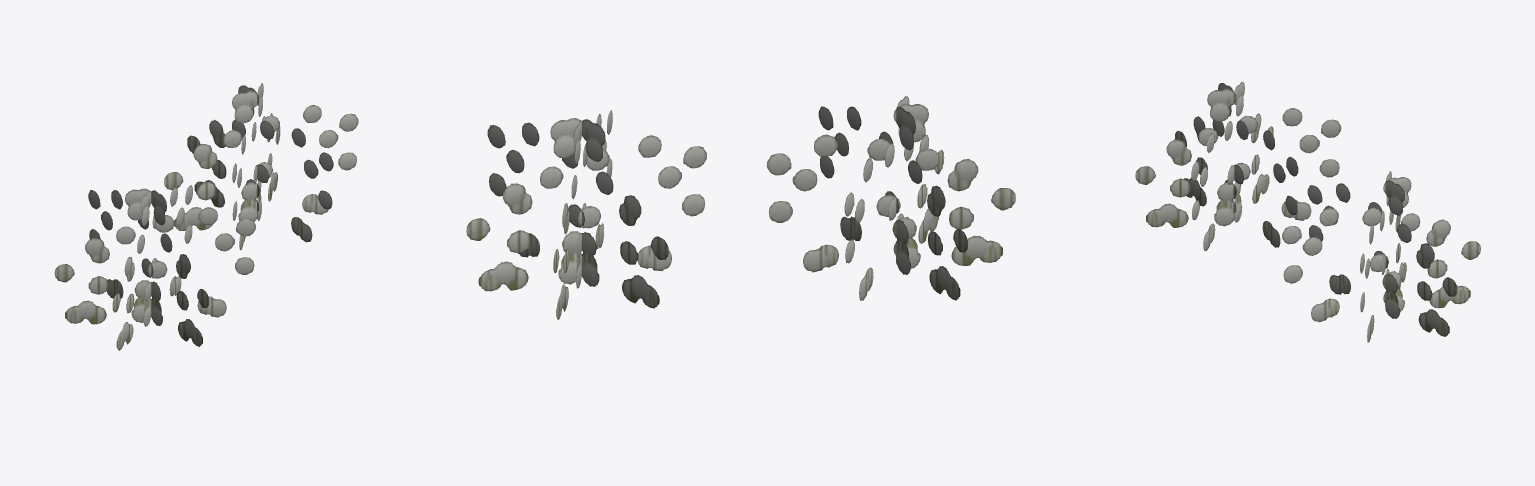
Rendered from tpl_bog_cotton.glb.
3 views of the same model, side by side, from view 1: azimuth 30°, elevation 25°; view 2: azimuth 150°, elevation 25°; view 3: azimuth 270°, elevation 25° (orthographic). The views are drawn at different scales.
Visible parts, largest first — view 1: tpl_bog_cotton; view 2: tpl_bog_cotton; view 3: tpl_bog_cotton.
Boxes of the visible parts, left/top/right/bottom form: tpl_bog_cotton: left=54, top=83, right=358, bottom=350; tpl_bog_cotton: left=466, top=96, right=1015, bottom=319; tpl_bog_cotton: left=1135, top=82, right=1480, bottom=342.
Size of the model in its own units: 1.19 by 0.7 by 1.06.
1 material, 1 textured.
